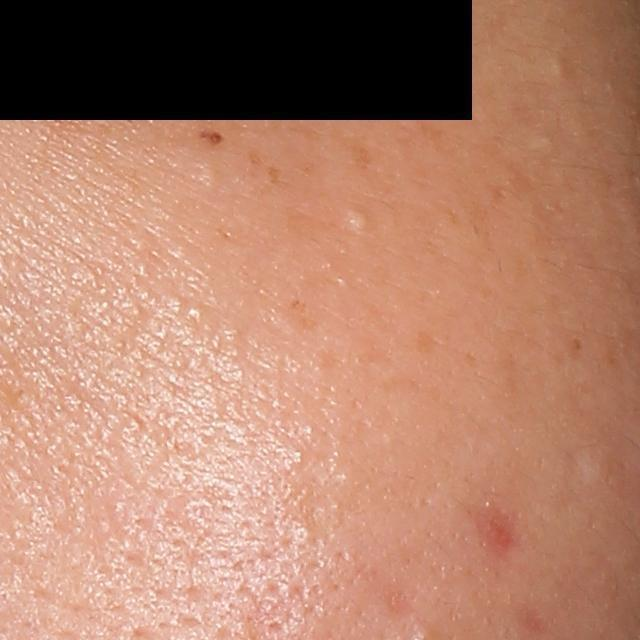comedo: (343, 206, 376, 236), (552, 51, 571, 77)
melasma: (405, 104, 456, 155), (449, 174, 493, 229), (337, 133, 376, 182), (292, 300, 318, 332), (244, 141, 265, 169), (267, 163, 289, 188)
nevus: (196, 128, 229, 150)
